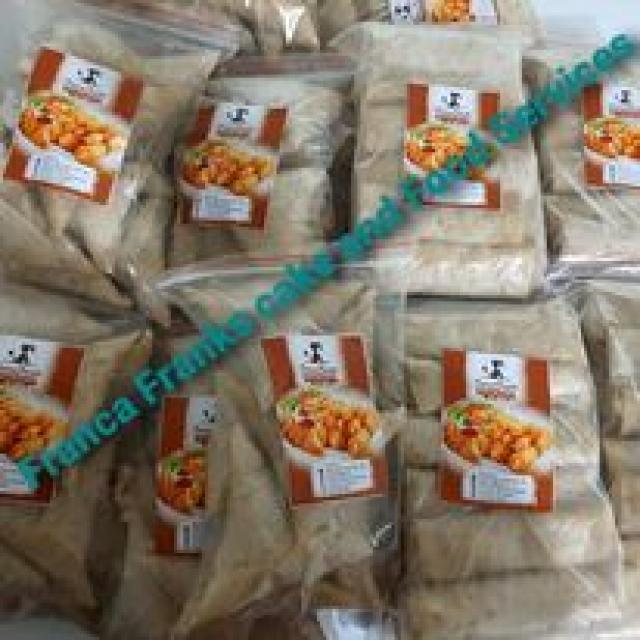Samosa: (2, 3, 371, 640)
Spring Rolls: (360, 25, 634, 615)
